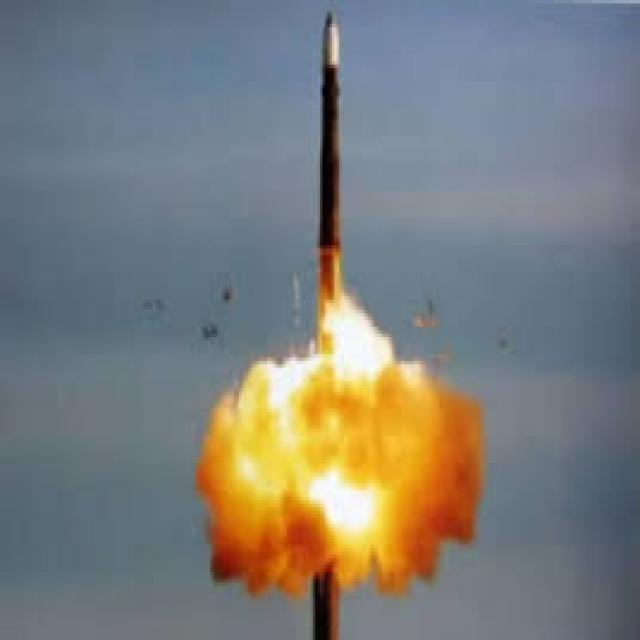missile: (313, 4, 350, 336)
